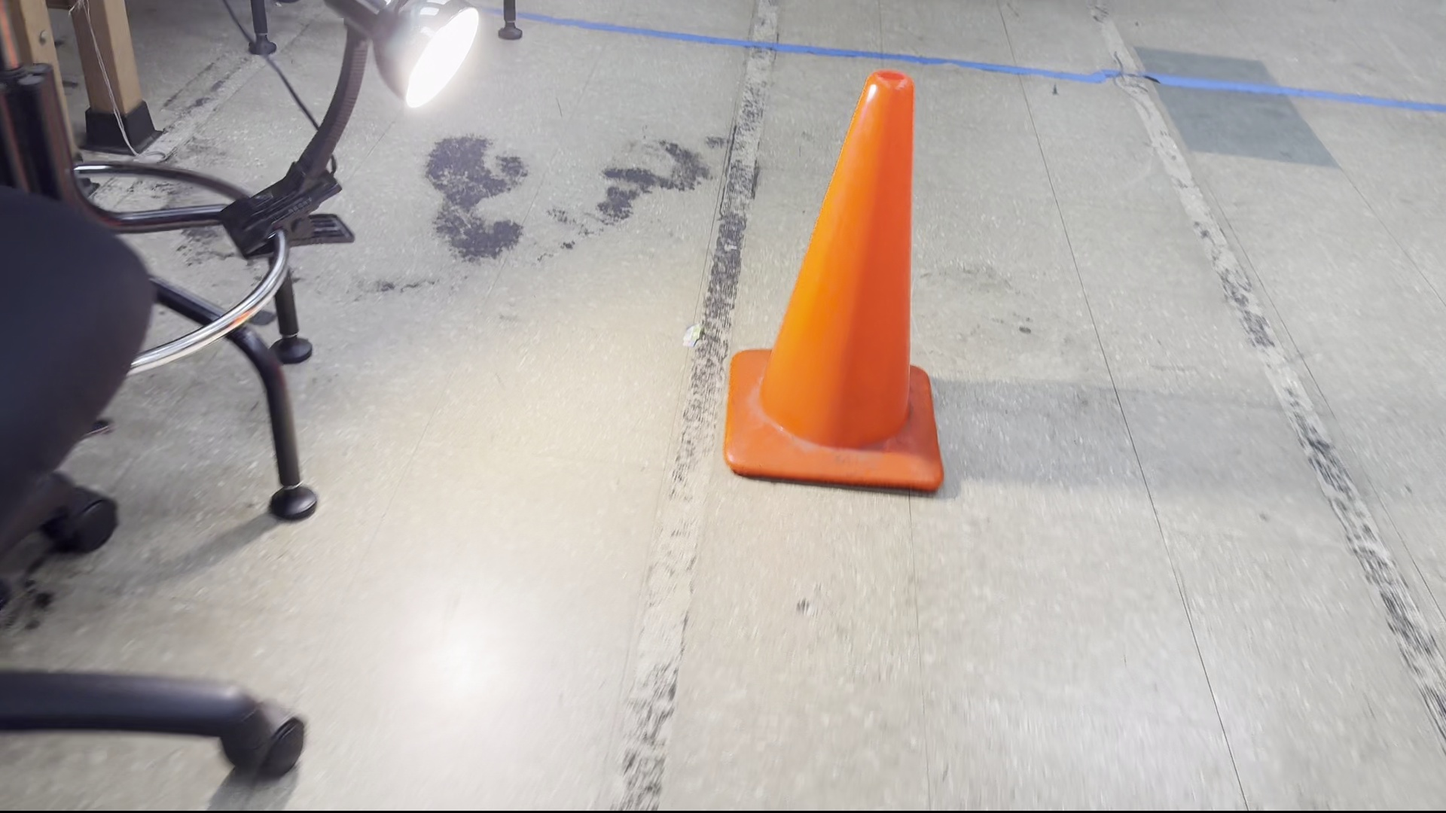traffic_cone: (722, 68, 945, 493)
